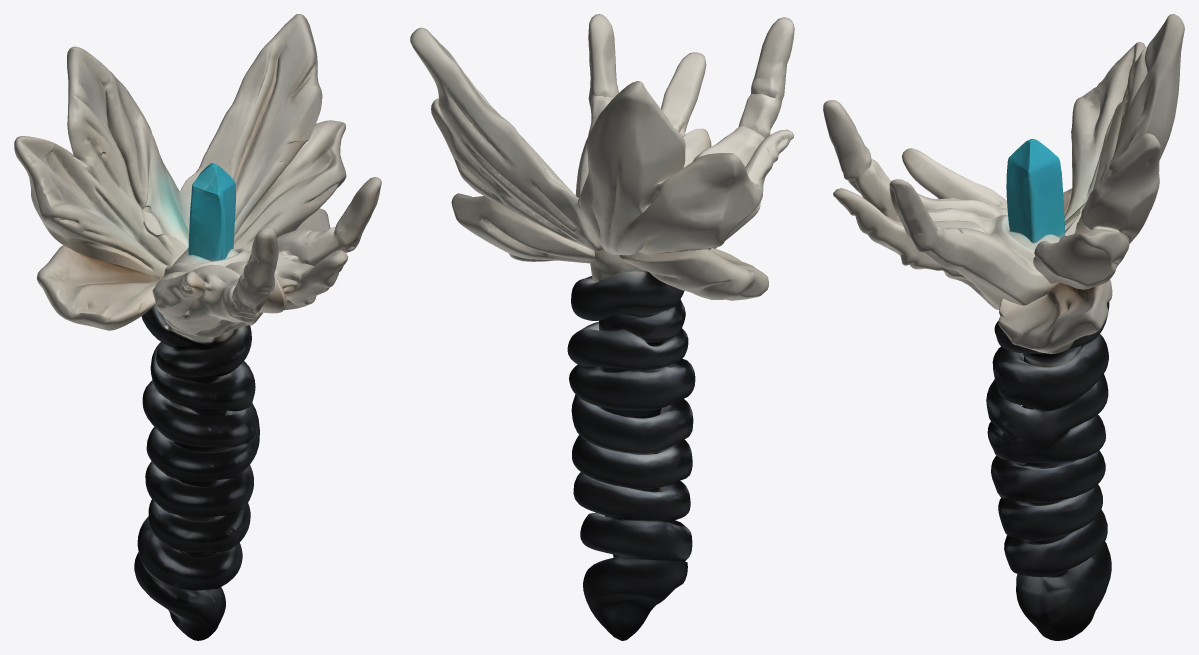
File: prop_relic_shrine.glb
The picture shows the model from 3 angles, left to right: view 1: azimuth 30°, elevation 25°; view 2: azimuth 150°, elevation 25°; view 3: azimuth 270°, elevation 25°; orthographic projection. The views are drawn at different scales.
Parts seen in each view (by area): view 1: model; view 2: model; view 3: model.
Boxes of the visible parts, <box> form: model: <box>14,14,381,640</box>; model: <box>410,14,794,640</box>; model: <box>823,14,1184,640</box>.
Size of the model in its own units: 1.07 by 1.9 by 1.05.
1 material, 1 textured.
